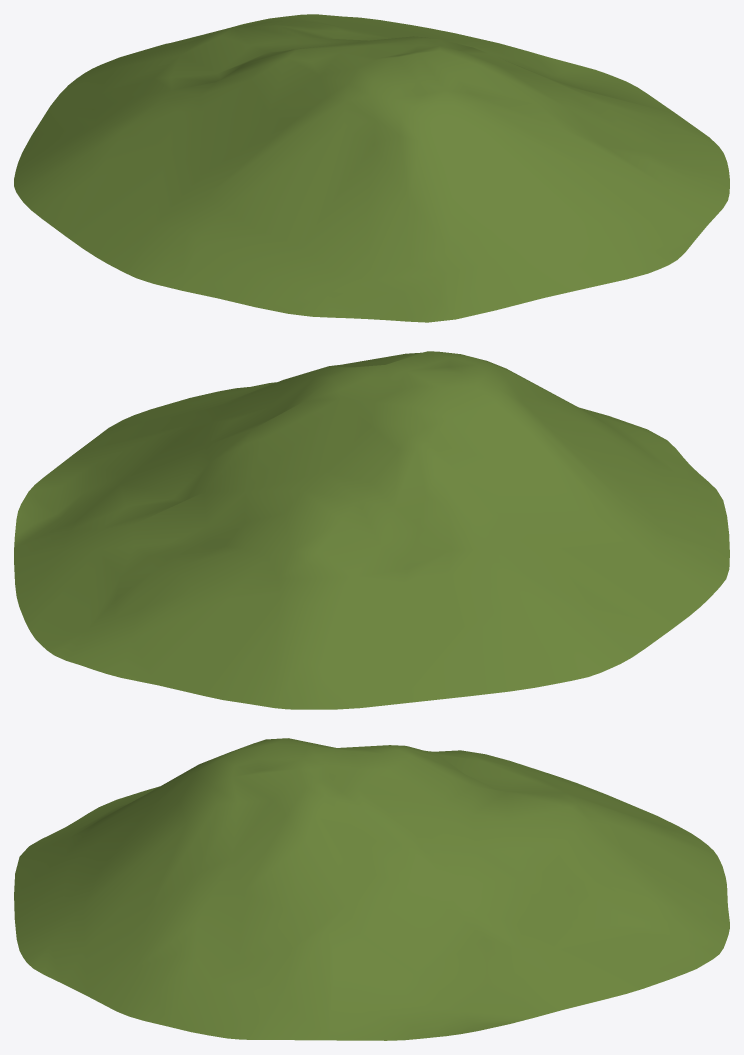
The model's file is rpgpp_ag_hill_background_05.fbx.
The picture shows the model from 3 angles, top to bottom: view 1: azimuth 30°, elevation 25°; view 2: azimuth 150°, elevation 25°; view 3: azimuth 270°, elevation 25°; orthographic projection. The views are drawn at different scales.
Visible parts, largest first — view 1: rpgpp_ag_hill_background_01; view 2: rpgpp_ag_hill_background_01; view 3: rpgpp_ag_hill_background_01.
Part boxes in pixels (x1=…): rpgpp_ag_hill_background_01: x1=14, y1=14, x2=729, y2=322; rpgpp_ag_hill_background_01: x1=14, y1=351, x2=729, y2=709; rpgpp_ag_hill_background_01: x1=14, y1=738, x2=729, y2=1040.
Bounding box in the file's own units: 102 × 23.4 × 109.
